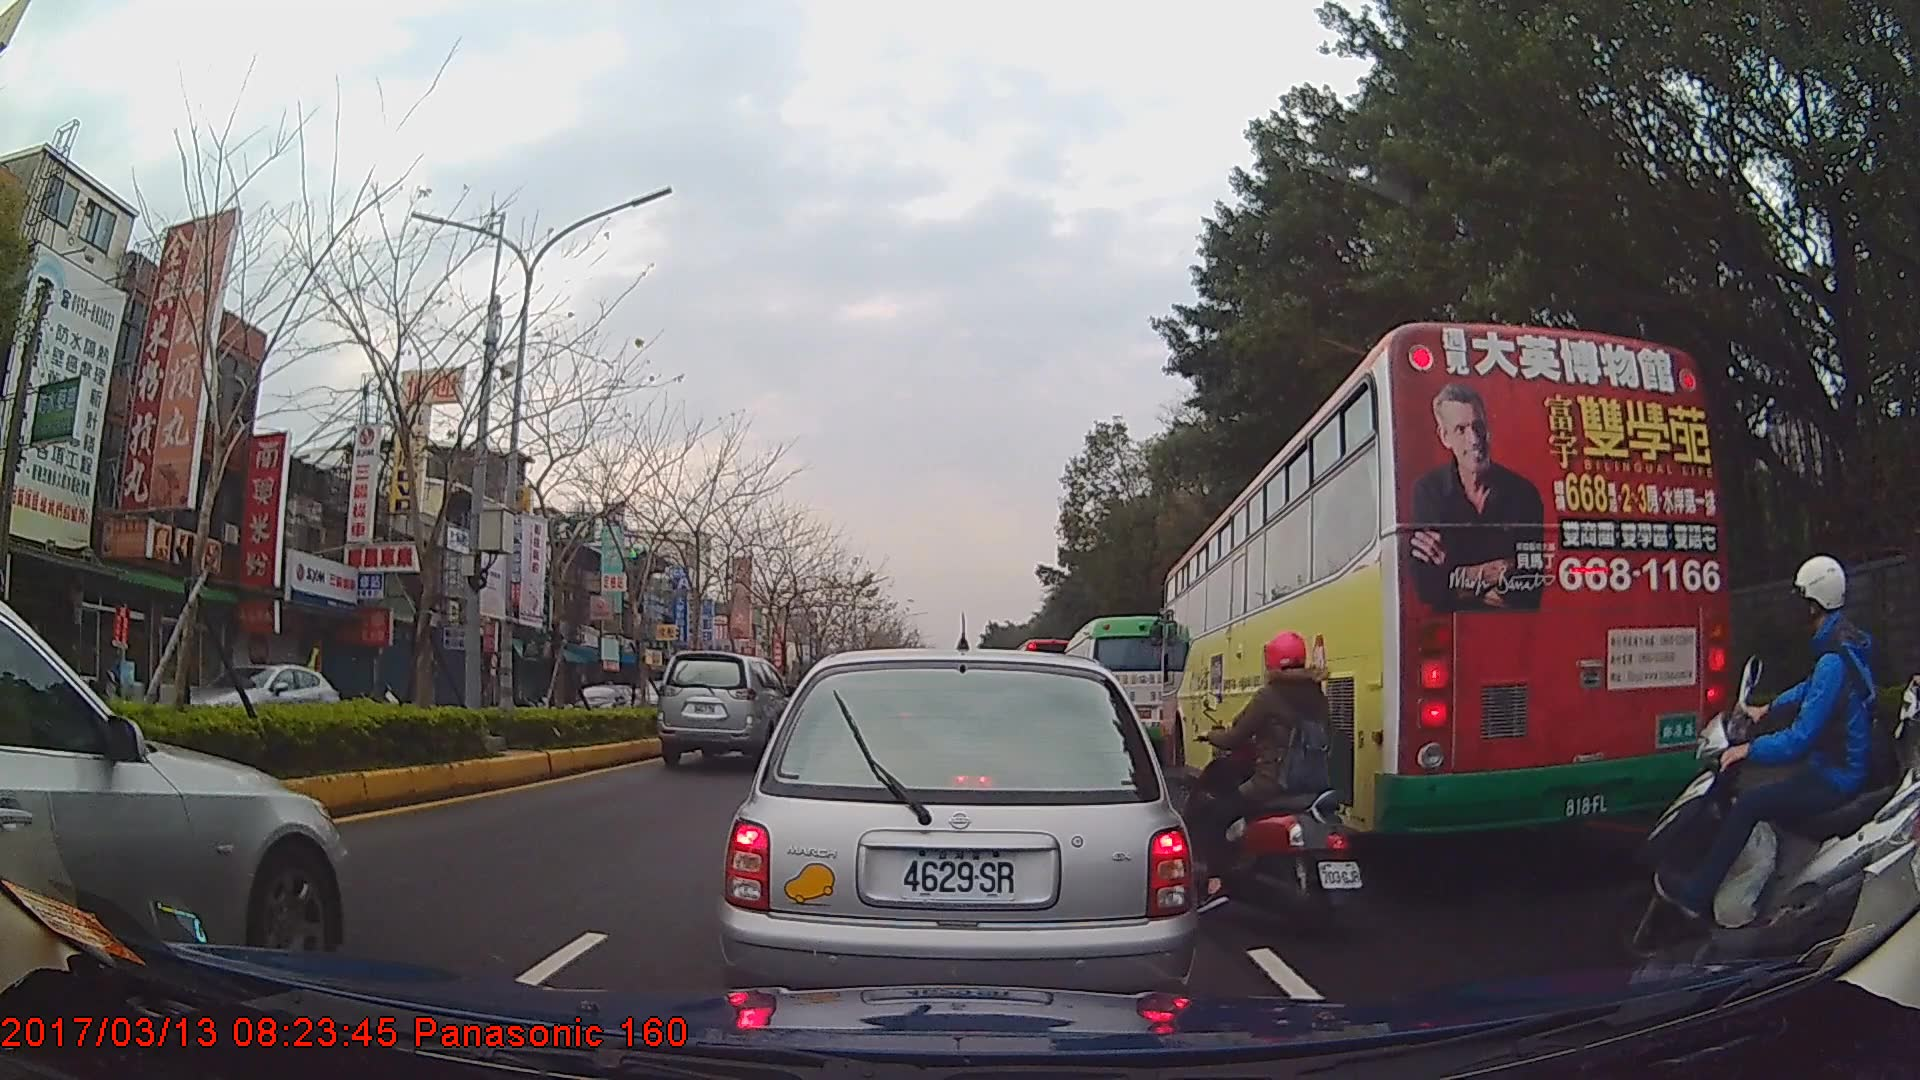rider: (1595, 557, 1920, 970), (1180, 627, 1364, 958), (1829, 571, 1920, 898)
vehicle: (1159, 319, 1727, 853), (716, 644, 1196, 1032), (0, 595, 348, 993), (655, 648, 800, 770), (1061, 616, 1185, 757), (173, 661, 343, 740)
